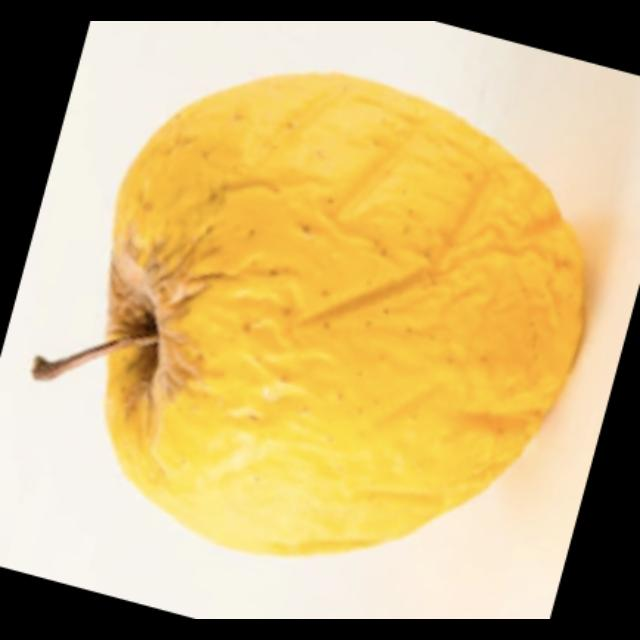Apel Tidak Segar: (102, 64, 584, 556)
